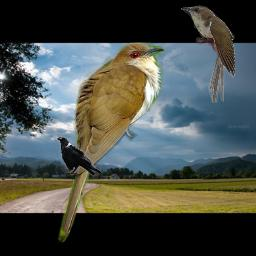Crow: (57, 135, 103, 176)
Cuckoo: (57, 42, 166, 243), (181, 5, 235, 103)
